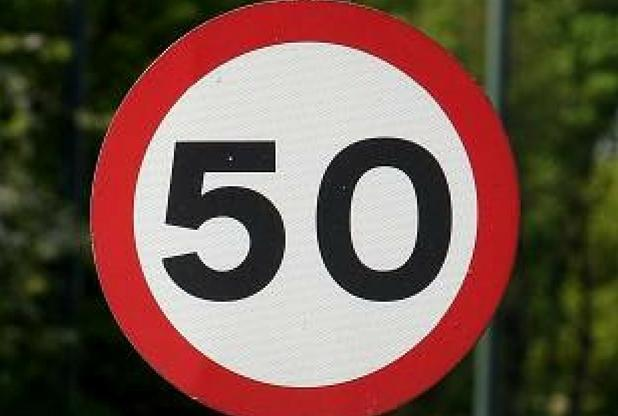Speed_limit_50km: (82, 2, 518, 416)
